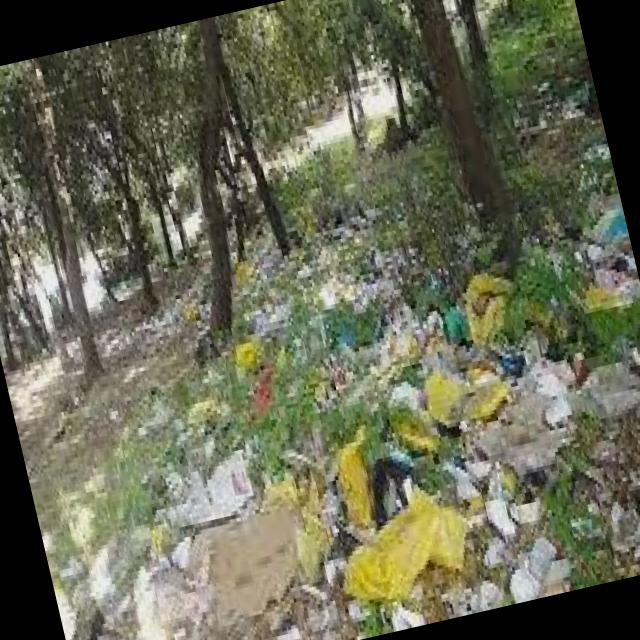garbage: (3, 201, 640, 640)
